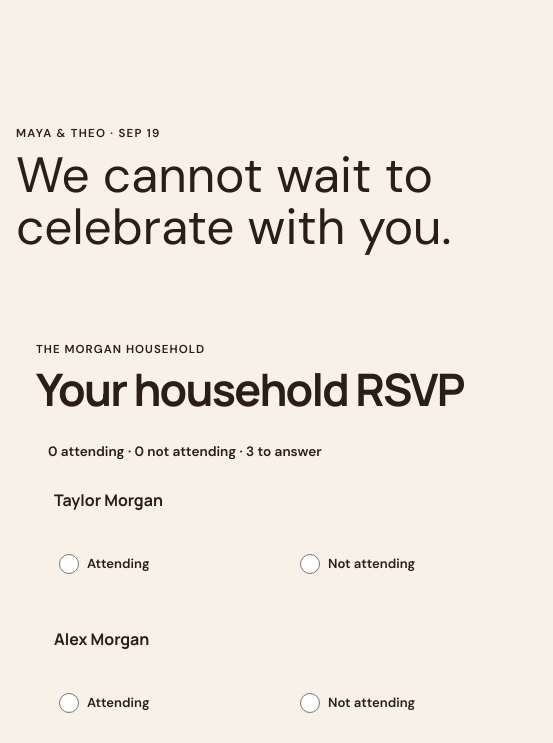
Scenario: household RSVP guest flow › stays closed when a boundary refusal also closes the household read
Expected: the heading "Your household RSVP" is shown, [36,365,536,414]
Click the radio button labelled "Not attending" below "Taylor Morgan".
click(310, 564)  # box [300,540,320,588]
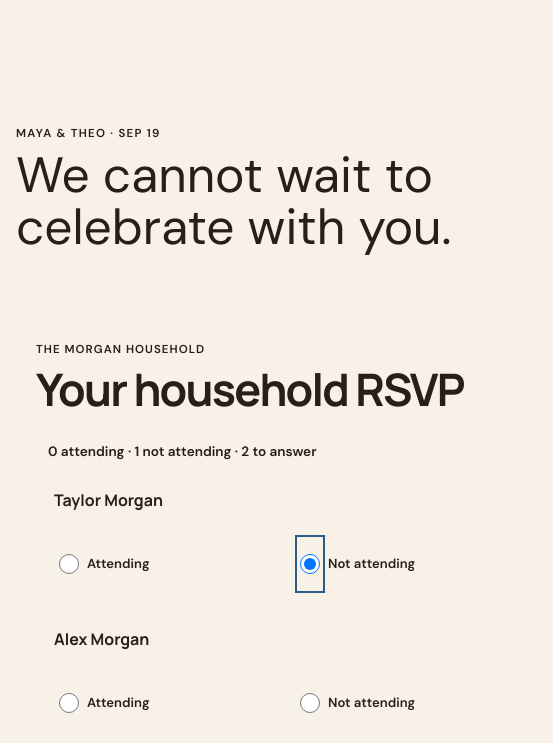
Click the radio button labelled "Not attending" below "Alex Morgan".
click(310, 703)  # box [300,679,320,727]
(page scrolled)
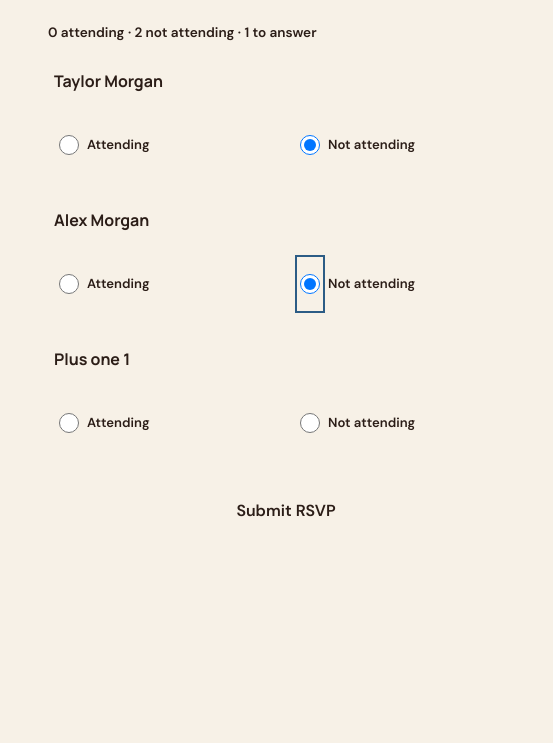
Click the radio button labelled "Not attending" below "Plus one 1".
click(310, 423)  # box [300,399,320,447]
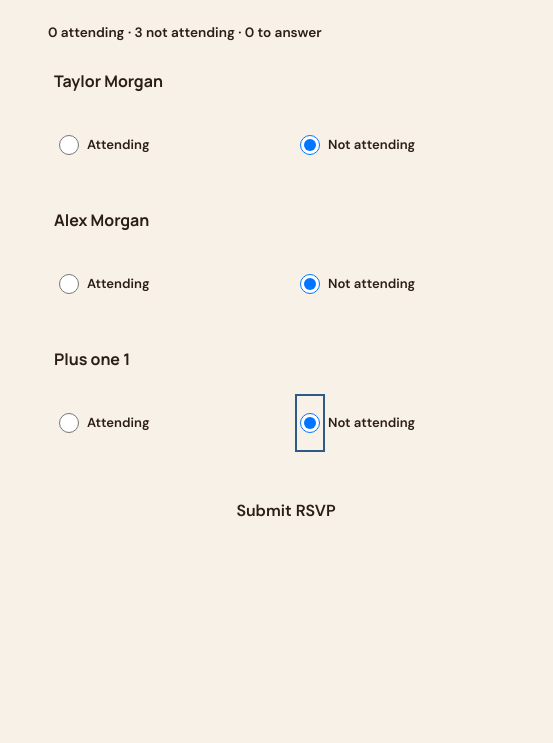
Click the button "Submit RSVP".
click(286, 511)  # box [36,487,536,535]
(page scrolled)
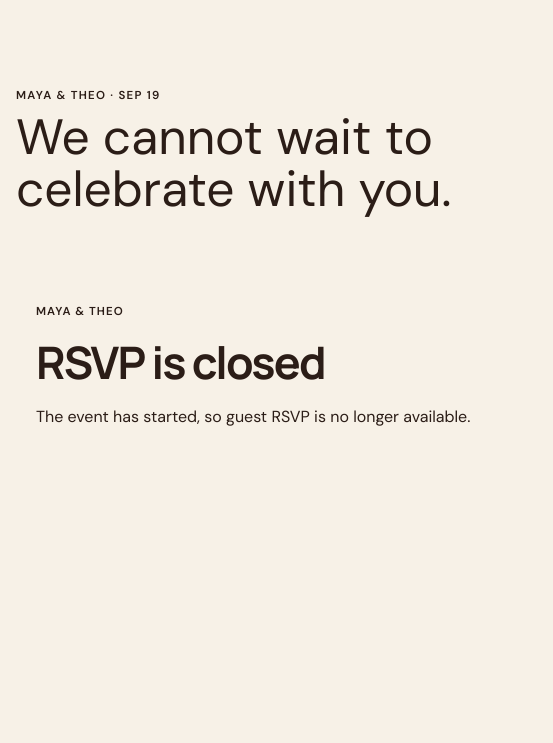
Expected: the heading "RSVP is closed" is shown, [36,331,325,392]
Expected: the button "Submit RSVP" is gone
